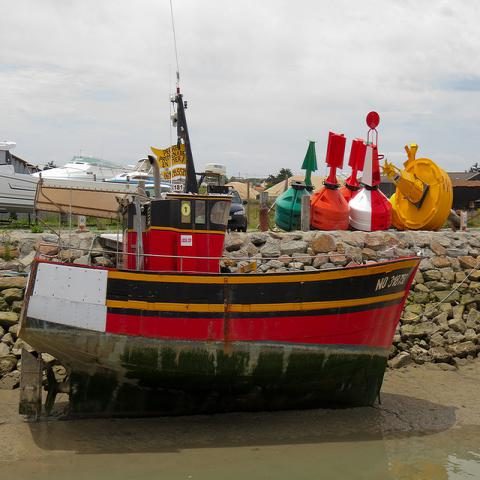car: (227, 187, 249, 232)
